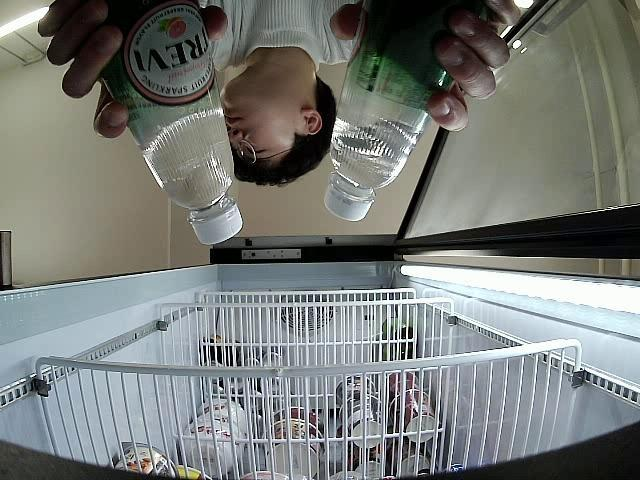18_trevi: (324, 0, 490, 221), (100, 0, 243, 246)
